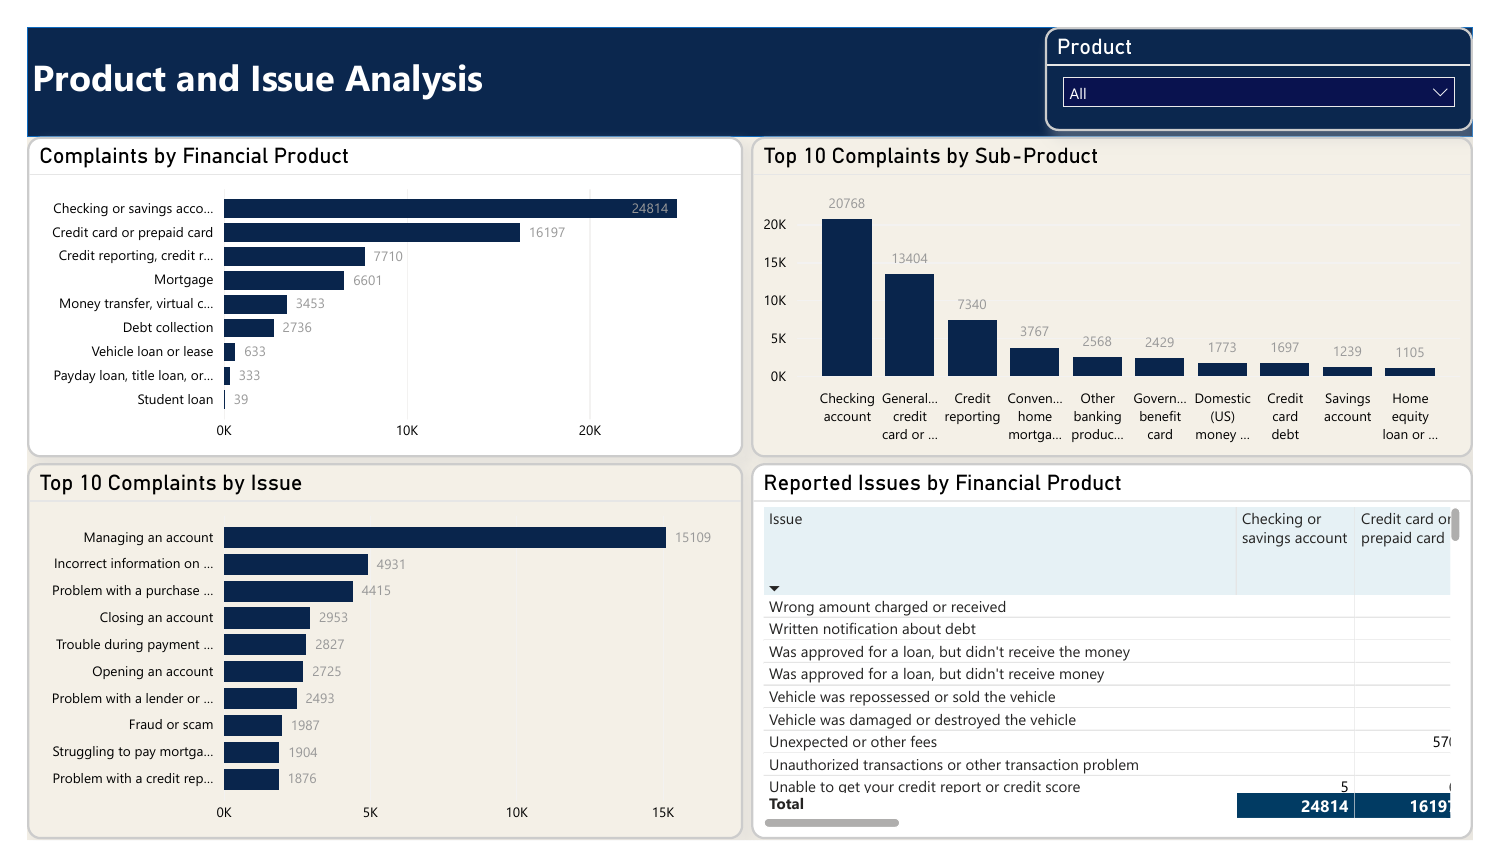

Layout of this report page (visuals, bound fields, positions):
{"tool":"powerbi","page":{"name":"Product and Issue Analysis","canvas":[1280,720],"ordinal":1},"visuals":[{"type":"shape","box":[0,0,1280,97.4],"z":0},{"type":"clusteredBarChart","title":"Complaints by Financial Product","fields":{"Category":["Complaints.Product"],"Y":["Complaints.Total Complaints"]},"box":[0,97.4,634,283.7],"z":1000},{"type":"clusteredColumnChart","title":"Top 10 Complaints by Sub-Product","fields":{"Category":["Complaints.Sub-product"],"Y":["Complaints.Total Complaints"]},"box":[640.9,97.4,639.1,283.7],"z":2000},{"type":"barChart","title":"Top 10 Complaints by Issue","fields":{"Category":["Complaints.Issue"],"Y":["Complaints.Total Complaints"]},"box":[0,386.2,634,333.2],"z":3000},{"type":"pivotTable","title":"Reported Issues by Financial Product","fields":{"Rows":["Complaints.Issue"],"Columns":["Complaints.Product"],"Values":["Complaints.Total Complaints"]},"box":[640.9,386.2,639.1,333.2],"z":4000},{"type":"textbox","box":[0,17.1,490.5,53],"z":5000},{"type":"slicer","title":"Product","fields":{"Values":["Complaints.Product"]},"box":[900.6,0,379.4,92.3],"z":6000}]}

Visuals, with their boxes in screenshot pixels (x1, y1, x2, y2), scaled from the page's 1280x720 canvas onto the 1500x868 screenshot:
shape: 0/0/1499/117
"Complaints by Financial Product" clusteredBarChart: 0/117/743/459
"Top 10 Complaints by Sub-Product" clusteredColumnChart: 751/117/1499/459
"Top 10 Complaints by Issue" barChart: 0/466/743/867
"Reported Issues by Financial Product" pivotTable: 751/466/1499/867
textbox: 0/21/575/85
"Product" slicer: 1055/0/1499/111
